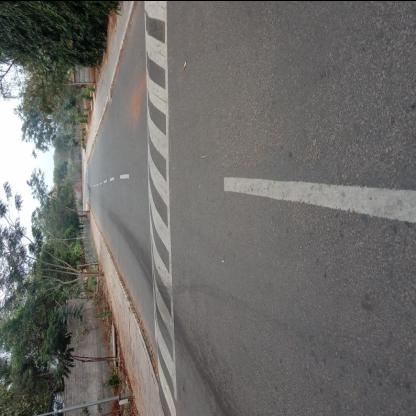speed-bumps: (136, 1, 180, 415)
